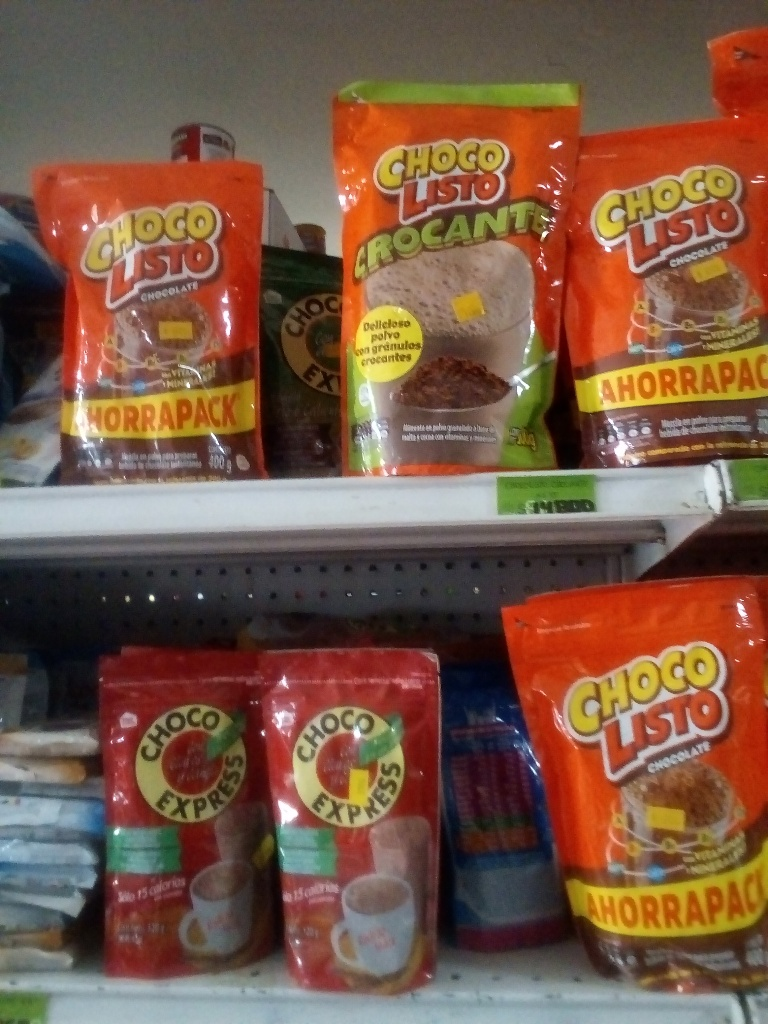COL0170102DYP50000: (327, 80, 578, 478)
COL0170103DYP40000: (26, 156, 262, 482)
